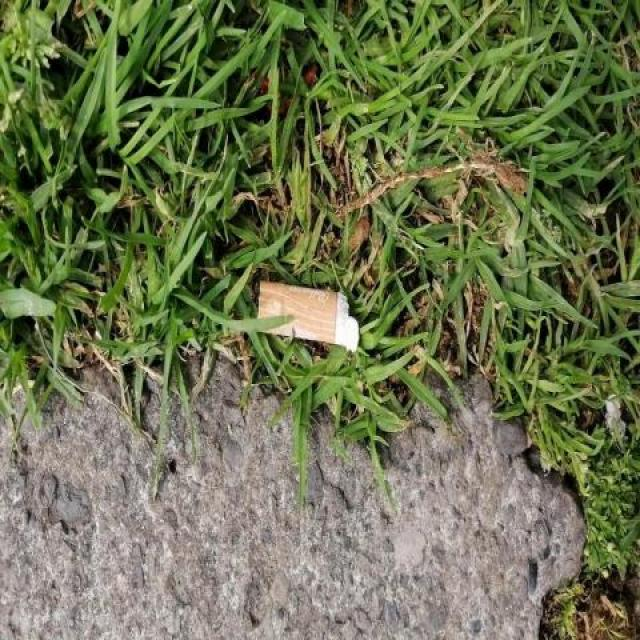non-organic waste: (254, 278, 362, 354)
